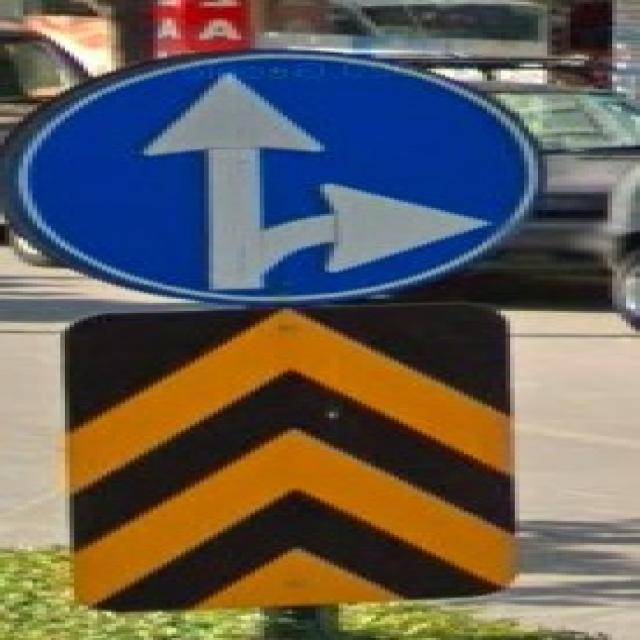Straight or Right: (22, 52, 527, 301)
